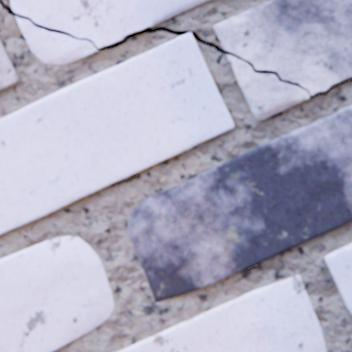brick: (0, 33, 233, 233), (128, 105, 351, 301), (116, 274, 325, 351), (0, 235, 113, 351), (324, 242, 351, 313), (0, 38, 19, 90)
broken_brick: (213, 0, 351, 94), (11, 0, 208, 47), (226, 55, 308, 121), (16, 17, 98, 64)
crack: (0, 0, 351, 97)
